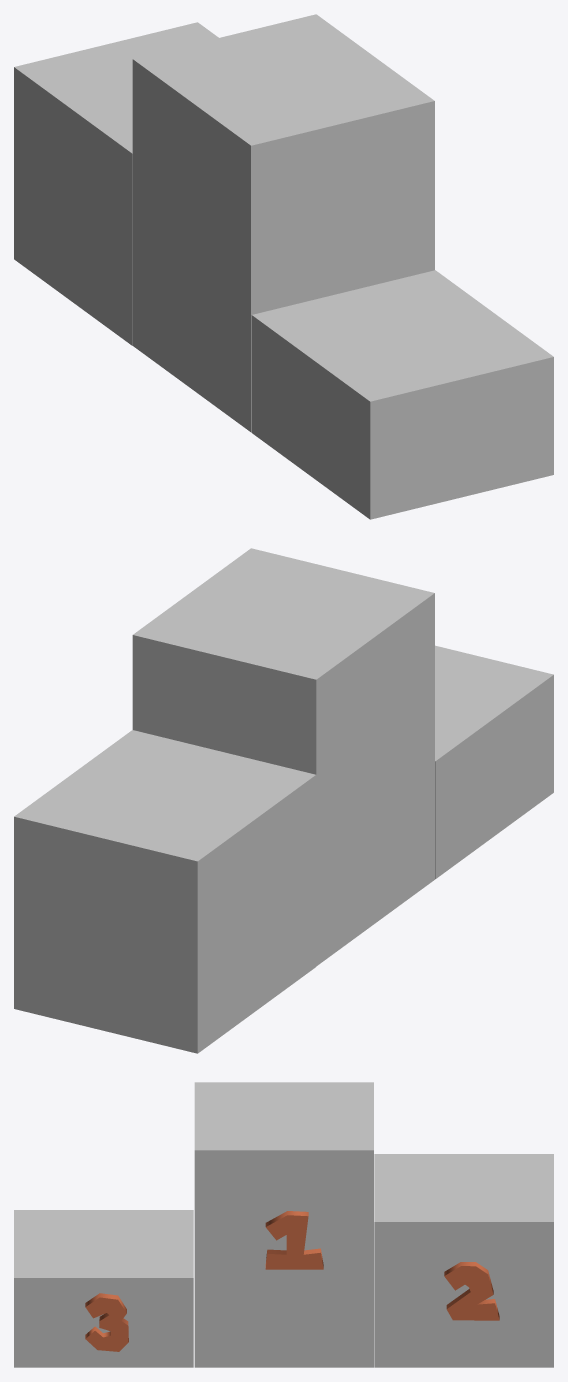
The model's file is basic podium.fbx.
3 views of the same model, one above another, from view 1: azimuth 30°, elevation 25°; view 2: azimuth 150°, elevation 25°; view 3: azimuth 270°, elevation 25° (orthographic). The views are drawn at different scales.
Parts seen in each view (by area): view 1: Cube.001, Cube.002, Cube; view 2: Cube, Cube.001, Cube.002; view 3: Cube.001, Cube, Cube.002, Text.001, Text.002, Text.
Boxes of the visible parts, x1,y1,x2,y2 form: Cube.001: (132, 14, 434, 432); Cube.002: (251, 270, 553, 519); Cube: (14, 22, 218, 345); Cube: (14, 730, 316, 1053); Cube.001: (132, 548, 434, 966); Cube.002: (435, 645, 553, 879); Cube.001: (194, 1082, 373, 1367); Cube: (374, 1154, 553, 1367); Cube.002: (14, 1210, 193, 1367); Text.001: (444, 1262, 499, 1320); Text.002: (265, 1211, 323, 1269); Text: (85, 1293, 128, 1351).
Bounding box in the file's own units: 213 × 299 × 672.
